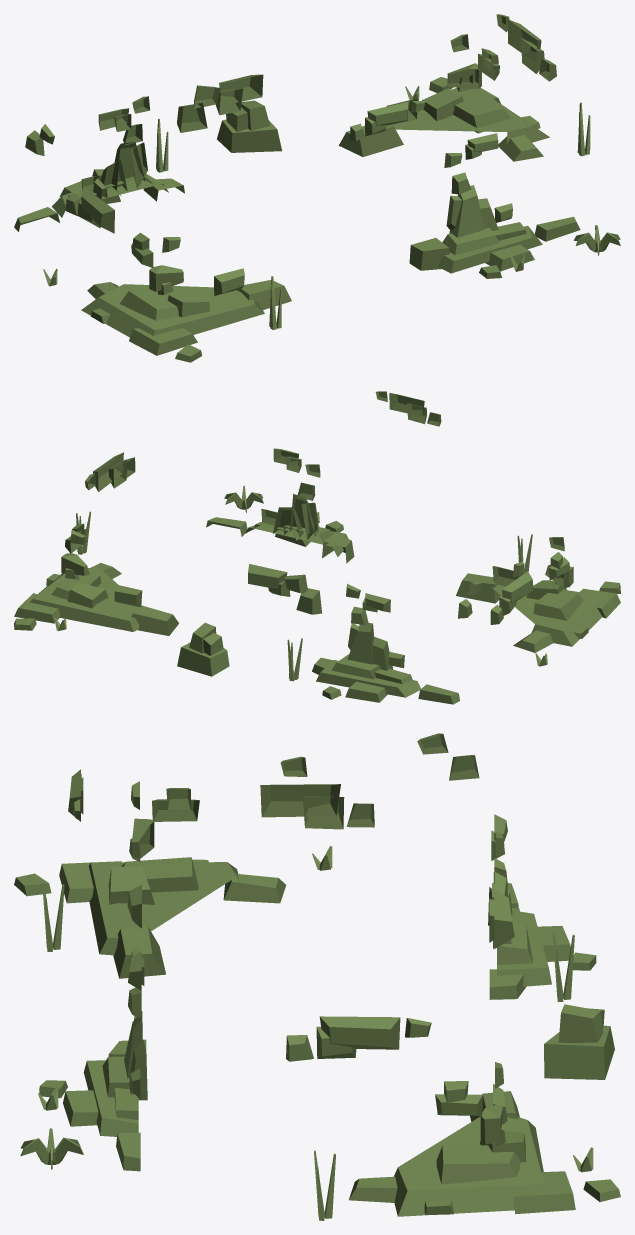
Rendered from SA_Bld_PoliceStation_Growth_01.gltf.
3 renders of one model, top to bottom at view 1: azimuth 30°, elevation 25°; view 2: azimuth 150°, elevation 25°; view 3: azimuth 270°, elevation 25°, orthographic. The views are drawn at different scales.
Visible parts, largest first — view 1: SA_Bld_PoliceStation_Growth_01; view 2: SA_Bld_PoliceStation_Growth_01; view 3: SA_Bld_PoliceStation_Growth_01.
Part boxes in pixels (<box>): SA_Bld_PoliceStation_Growth_01: <box>14,14,620,362</box>; SA_Bld_PoliceStation_Growth_01: <box>14,391,620,704</box>; SA_Bld_PoliceStation_Growth_01: <box>14,733,620,1220</box>.
Bounding box in the file's own units: 28.48 × 9.39 × 20.49.
1 material, 1 textured.
